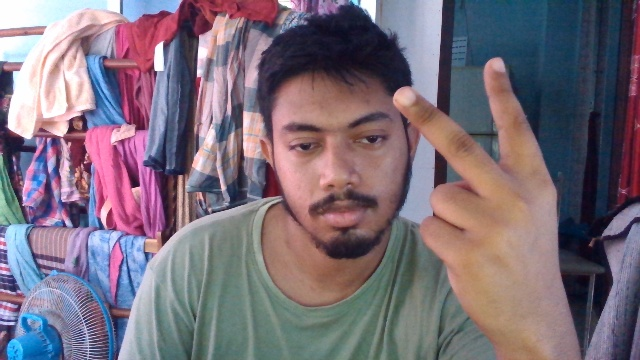thanks: (388, 52, 584, 329)
